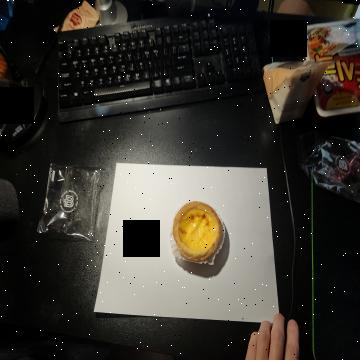EggTart: (172, 200, 223, 261)
